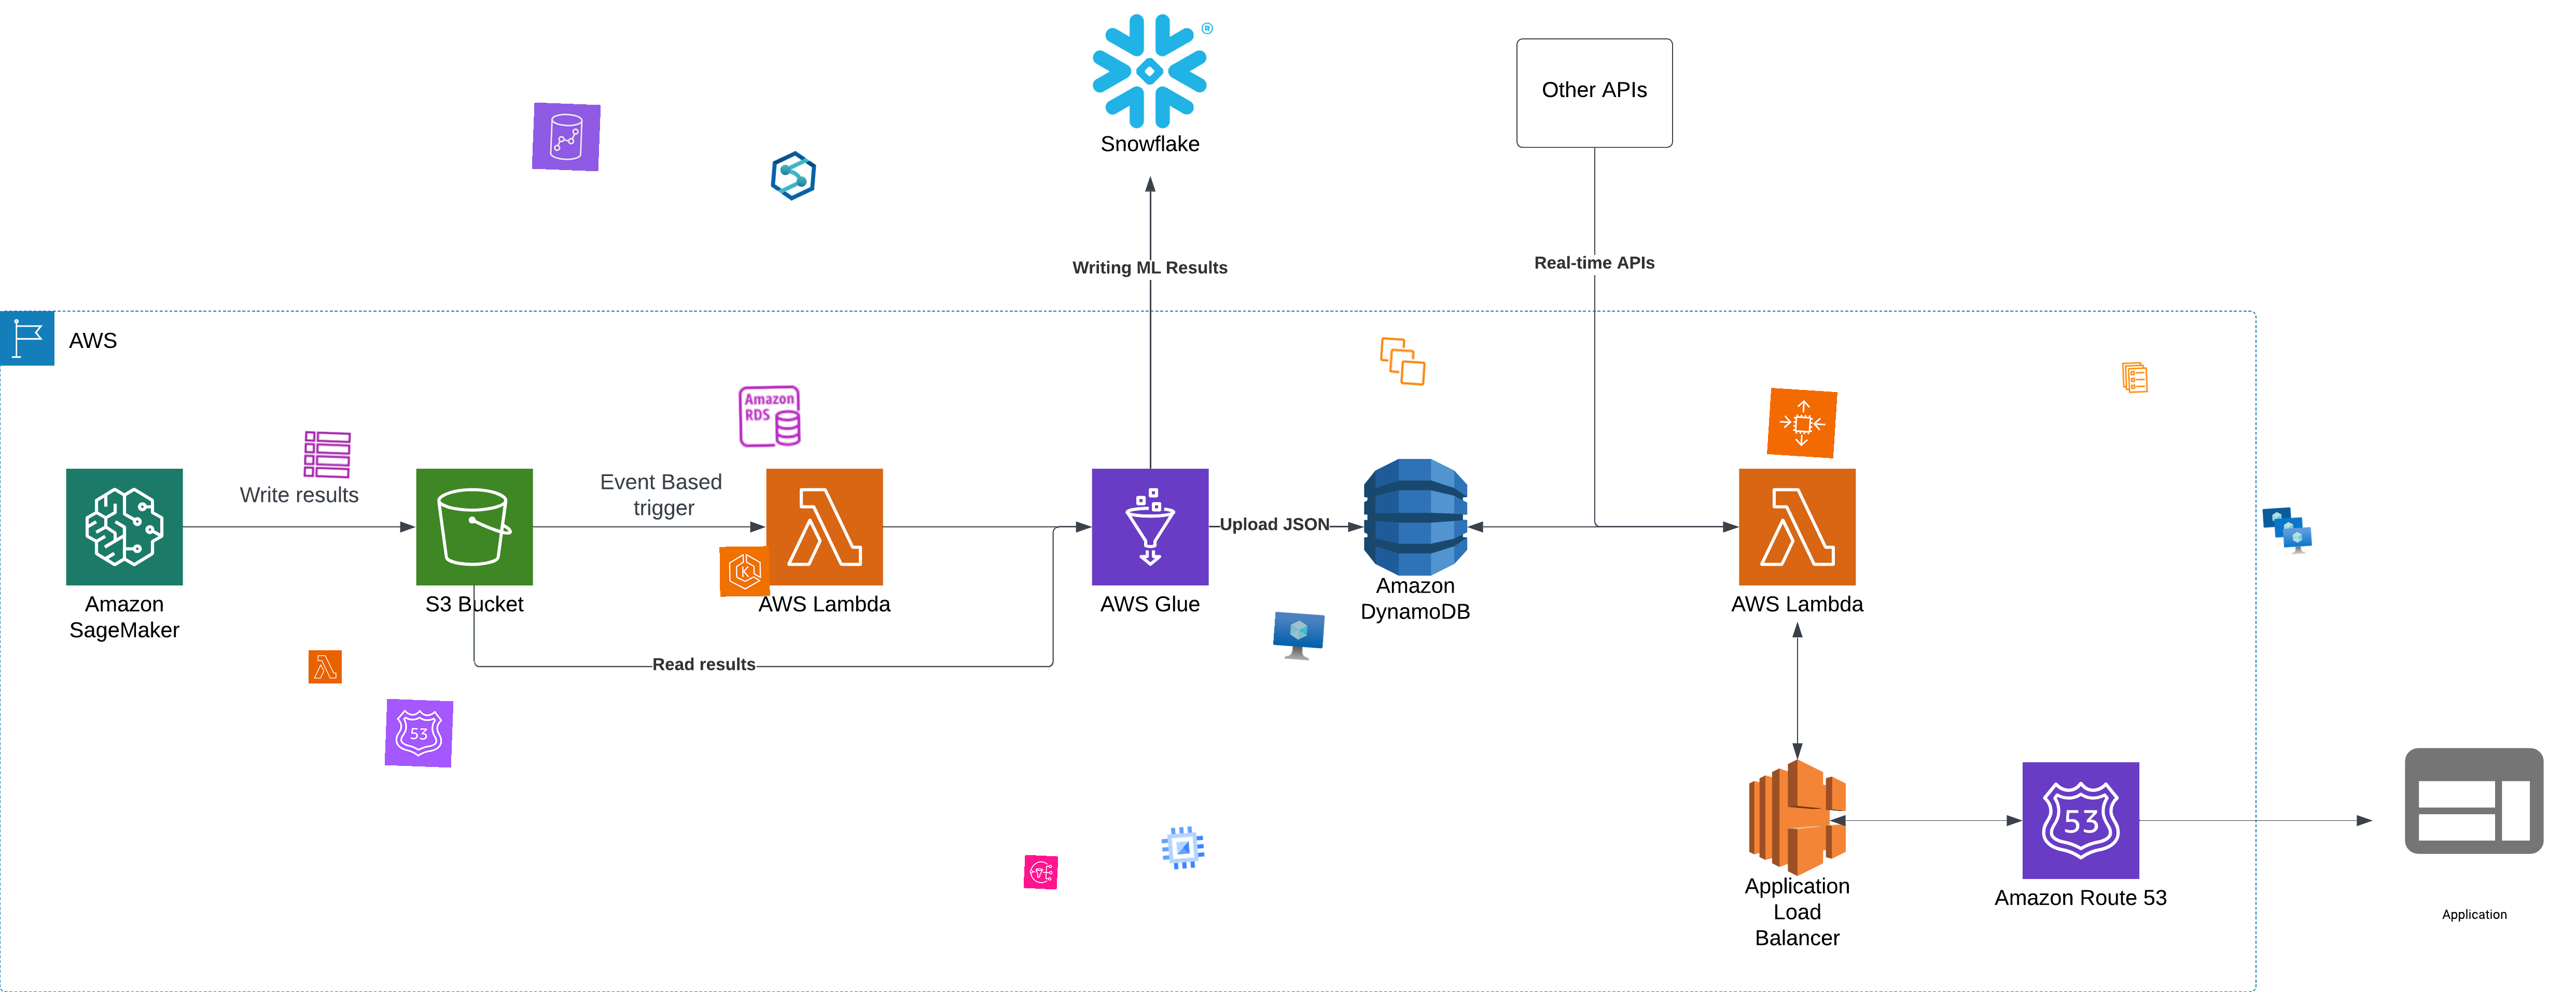aws_amazon_ec2_auto_scaling: (1768, 388, 1837, 458)
aws_amazon_elastic_kubernetes_service: (720, 545, 771, 596)
aws_amazon_redshift: (532, 102, 601, 172)
aws_amazon_route_53: (384, 698, 453, 769)
aws_amazon_simple_notification_service: (1024, 854, 1058, 890)
aws_aurora_amazon_rds_instance: (736, 383, 803, 450)
aws_dynamodb_table: (301, 429, 353, 481)
aws_ec2_instances: (1377, 335, 1429, 388)
aws_elastic_container_service_service: (2118, 360, 2152, 396)
aws_lambda: (309, 650, 342, 683)
azure_synapse_analytics: (767, 149, 820, 202)
azure_virtual_machine: (1272, 611, 1326, 665)
azure_vm_scale_sets: (2261, 504, 2313, 557)
gcp_compute_engine: (1157, 821, 1209, 875)
